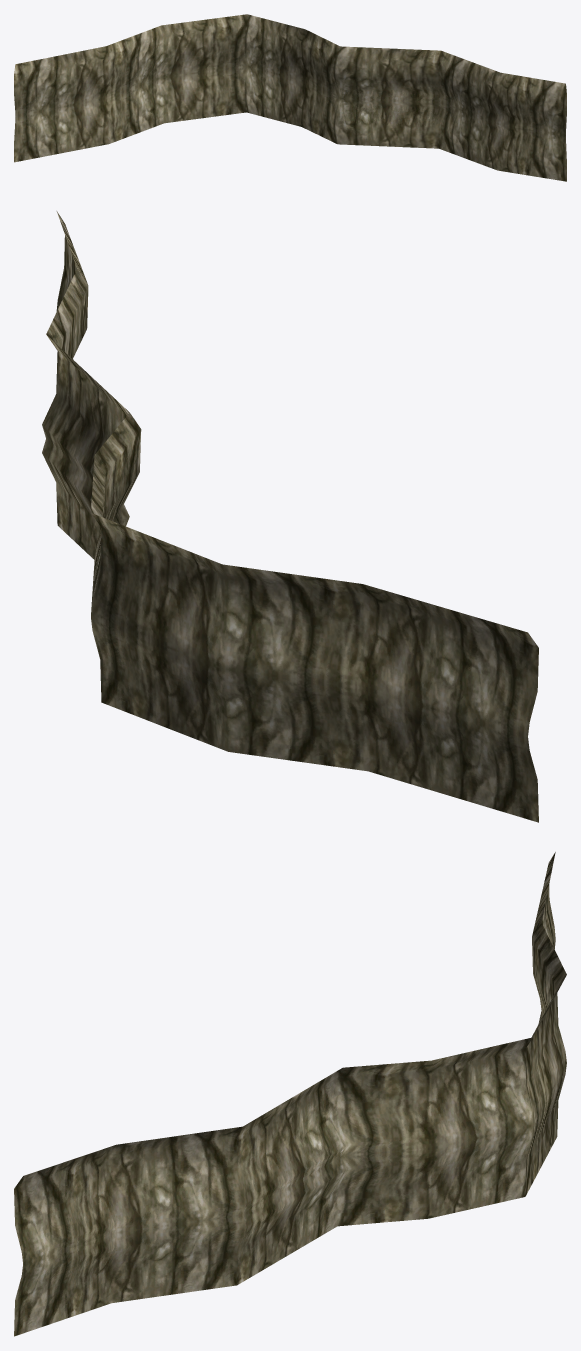
File: CB_NEWPLAYSURFACE_CB_PLAYSURFACE37.fbx
3 views of the same model, one above another, from view 1: azimuth 30°, elevation 25°; view 2: azimuth 150°, elevation 25°; view 3: azimuth 270°, elevation 25° (orthographic). The views are drawn at different scales.
Visible parts, largest first — view 1: CB_NEWPLAYSURFACE_CB_PLAYSURFACE37; view 2: CB_NEWPLAYSURFACE_CB_PLAYSURFACE37; view 3: CB_NEWPLAYSURFACE_CB_PLAYSURFACE37.
Boxes of the visible parts, x1=… form: CB_NEWPLAYSURFACE_CB_PLAYSURFACE37: x1=14, y1=14, x2=566, y2=181; CB_NEWPLAYSURFACE_CB_PLAYSURFACE37: x1=42, y1=211, x2=538, y2=822; CB_NEWPLAYSURFACE_CB_PLAYSURFACE37: x1=14, y1=852, x2=566, y2=1336.
Bounding box in the file's own units: 318575 × 73541 × 227352.
1 material, 1 textured.
